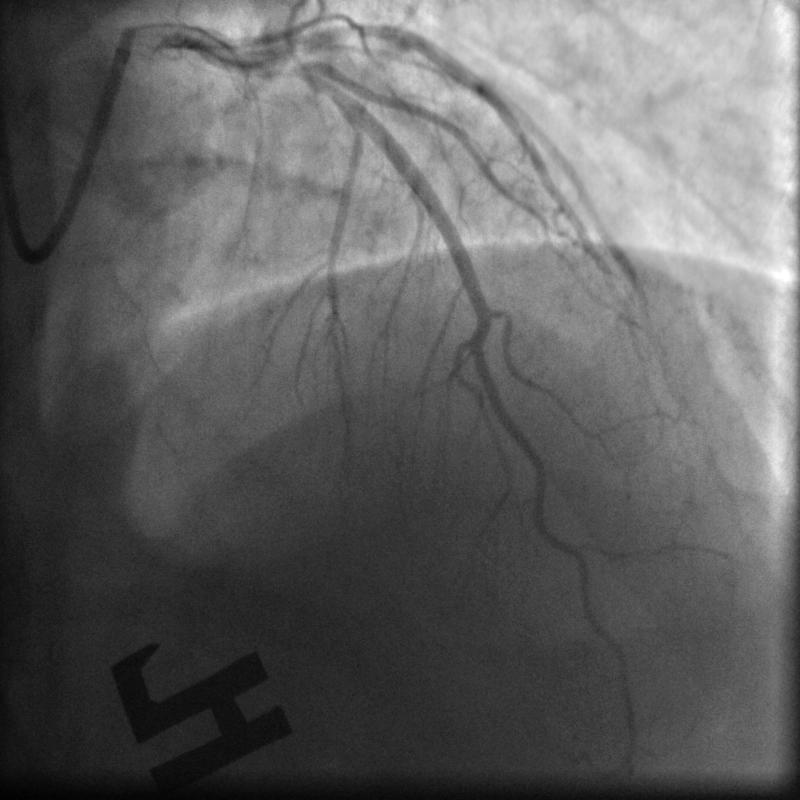Stenosis: (246, 53, 316, 84)
